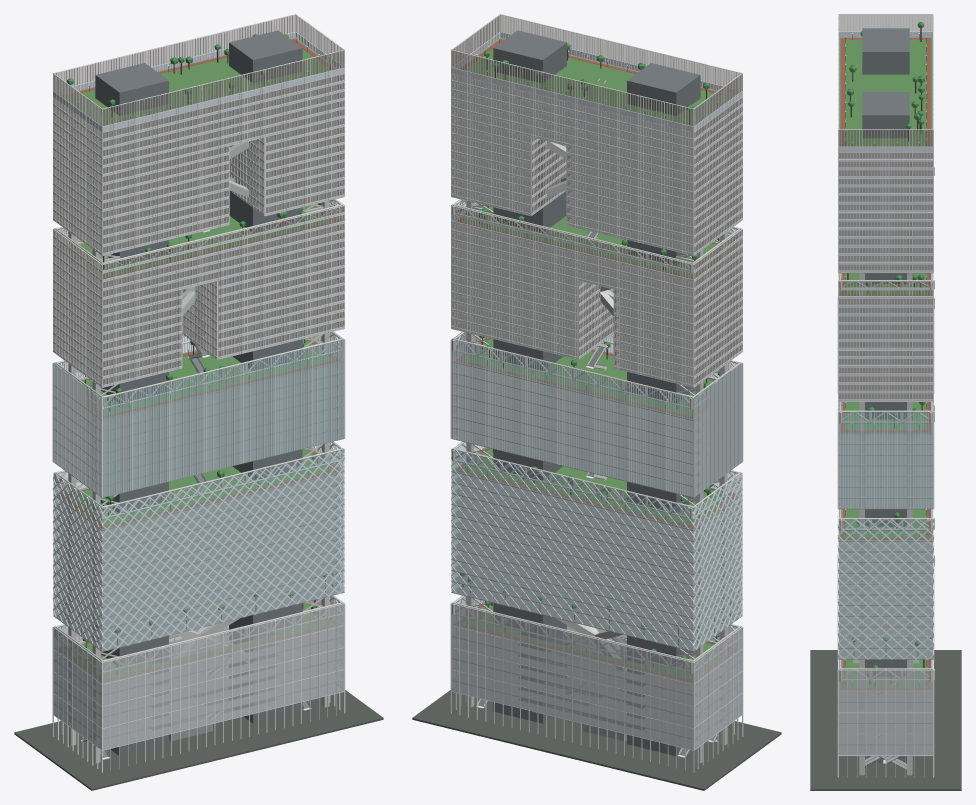
File: the_stack.optimized.glb
3 views of the same model, side by side, from view 1: azimuth 30°, elevation 25°; view 2: azimuth 150°, elevation 25°; view 3: azimuth 270°, elevation 25° (orthographic). The views are drawn at different scales.
Visible parts, largest first — view 1: Web_Stack_Glass_Frost_Web, Web_Stack_Core, Web_Stack_Apartment_Frame, Ground_Site, Web_Stack_Foliage; view 2: Web_Stack_Glass_Frost_Web, Web_Stack_Core, Web_Stack_Apartment_Frame, Ground_Site, Web_Stack_Foliage; view 3: Web_Stack_Glass_Frost_Web, Web_Stack_Core, Web_Stack_Apartment_Frame, Ground_Site, Web_Stack_Foliage, Web_Stack_Trunk.
Boxes of the visible parts, box(x1,y1,x2,y2) form: Web_Stack_Glass_Frost_Web: box(53, 15, 344, 749); Web_Stack_Core: box(53, 30, 344, 758); Web_Stack_Apartment_Frame: box(52, 14, 345, 772); Ground_Site: box(14, 86, 383, 790); Web_Stack_Foliage: box(64, 34, 326, 664); Web_Stack_Glass_Frost_Web: box(451, 15, 742, 749); Web_Stack_Core: box(451, 30, 742, 755); Web_Stack_Apartment_Frame: box(450, 14, 743, 772); Ground_Site: box(412, 78, 781, 790); Web_Stack_Foliage: box(460, 43, 733, 661); Web_Stack_Glass_Frost_Web: box(838, 14, 933, 755); Web_Stack_Core: box(838, 28, 933, 770); Web_Stack_Apartment_Frame: box(837, 14, 934, 777); Ground_Site: box(810, 91, 961, 790); Web_Stack_Foliage: box(847, 22, 931, 676); Web_Stack_Trunk: box(842, 28, 924, 685).
Size of the model in its own units: 139 by 303 by 63.99.
Materials: 10 (10 with a texture image).
